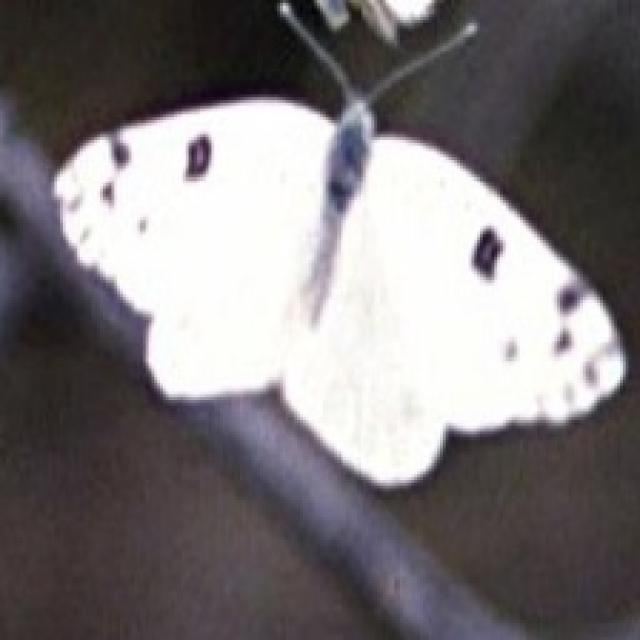butterfly: (48, 0, 628, 491)
